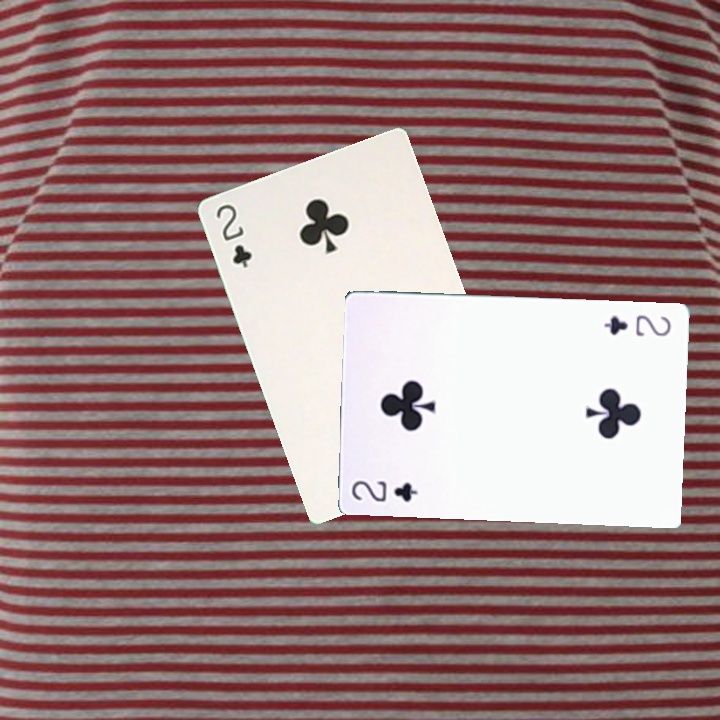2c: (212, 199, 255, 270), (600, 311, 673, 339), (348, 476, 420, 504)
